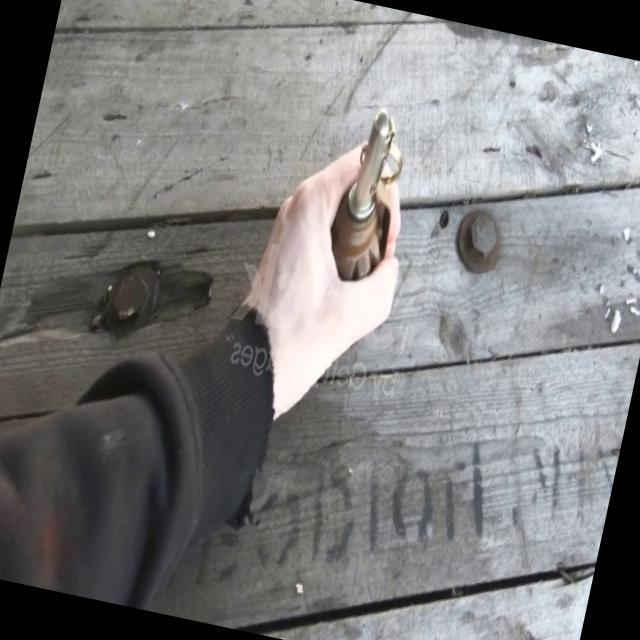grenade: (321, 86, 417, 286)
